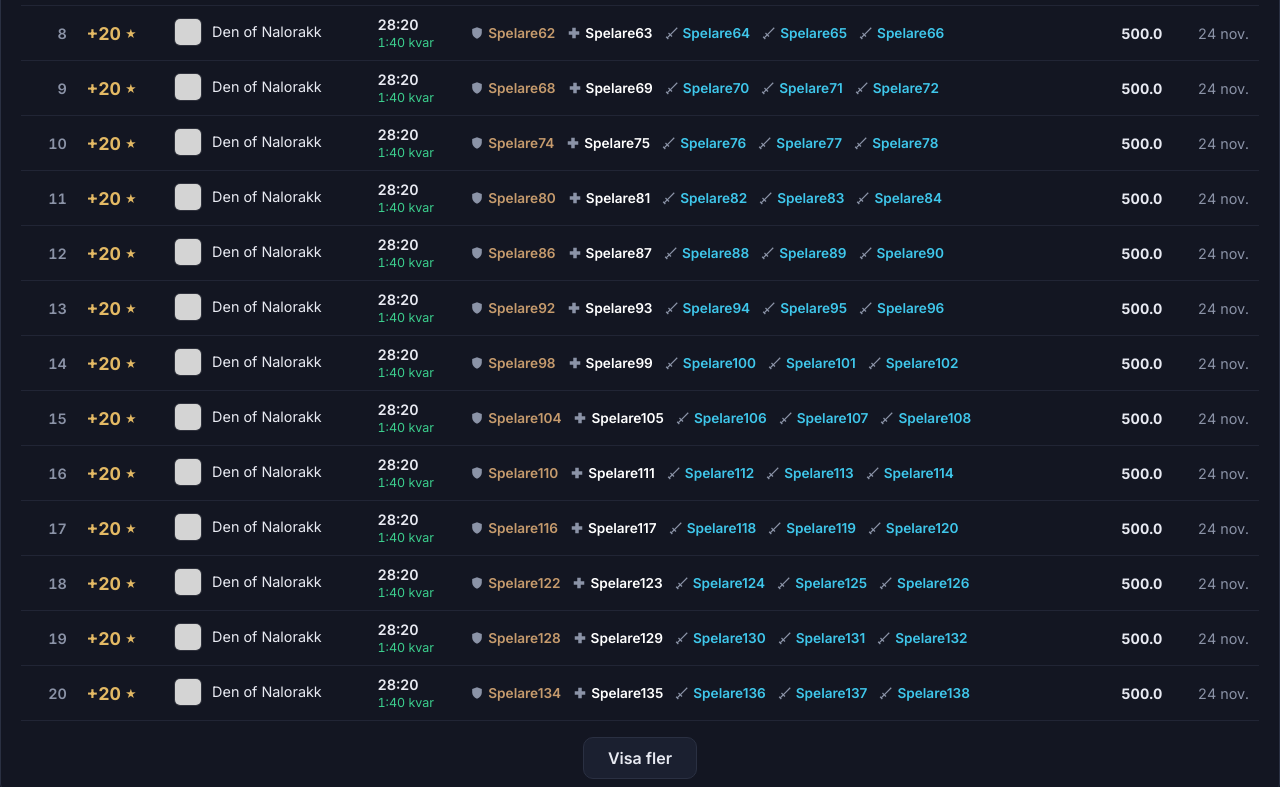
Test: RunsTable › visar 20 runs åt gången och fler när man klickar på "Visa fler"
(page scrolled)
Click the button "Visa fler" at (640, 758), box x1=583 y1=737 x2=697 y2=779
(page scrolled)
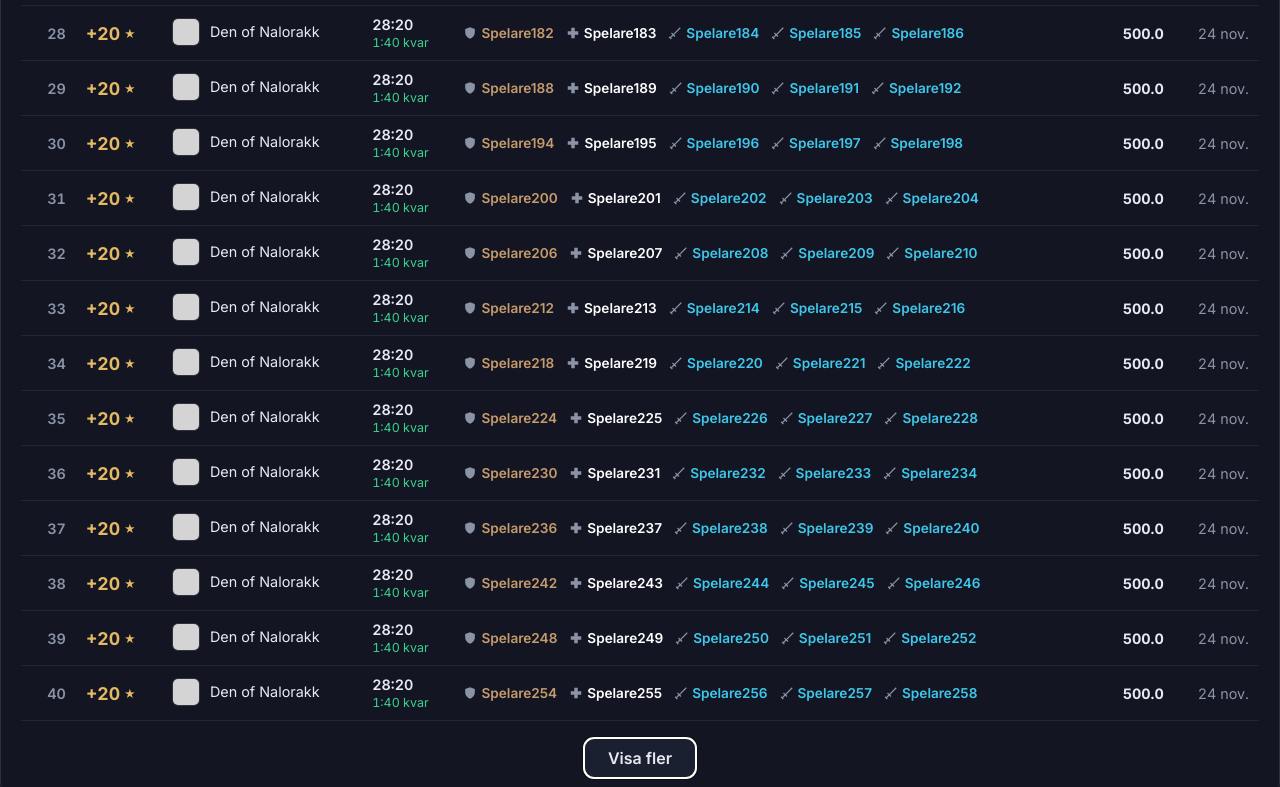
Click the button "Visa fler" at (640, 758), box x1=583 y1=737 x2=697 y2=779
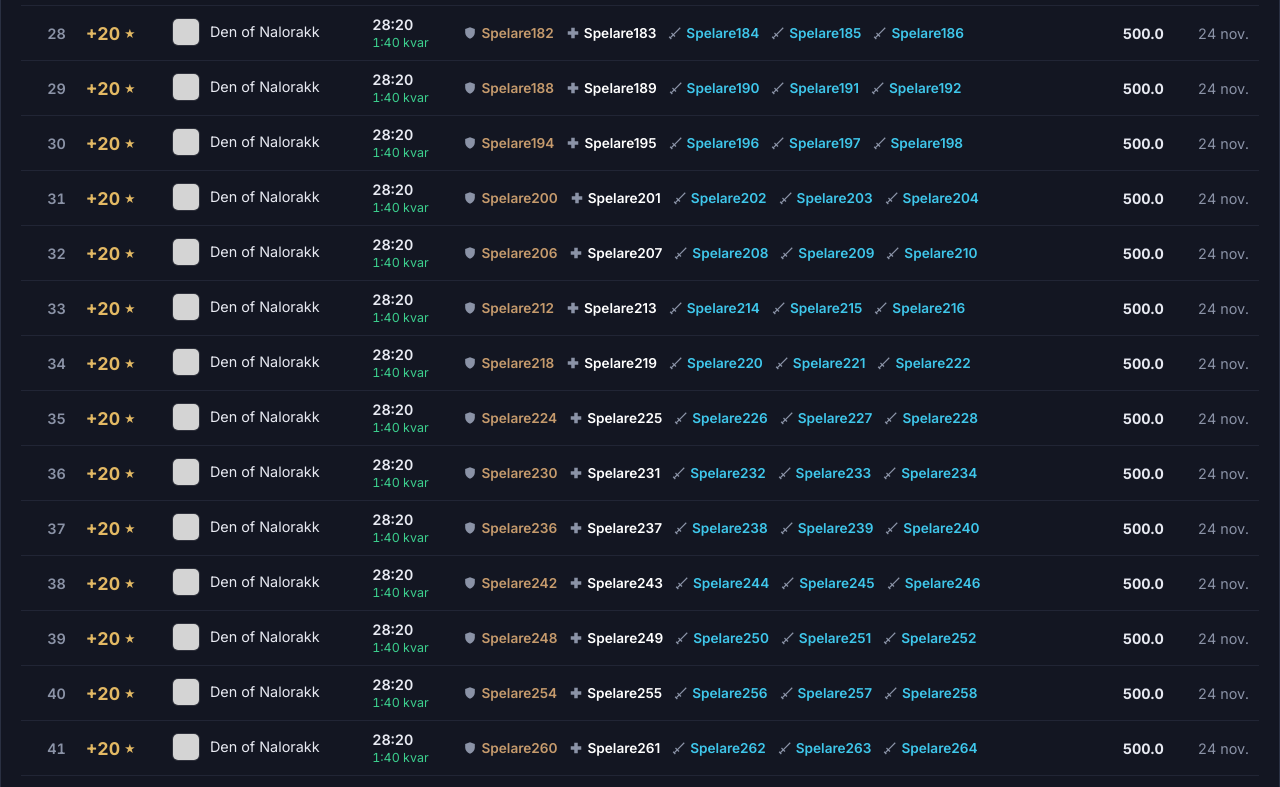
expect the button "Visa fler" is gone: met
